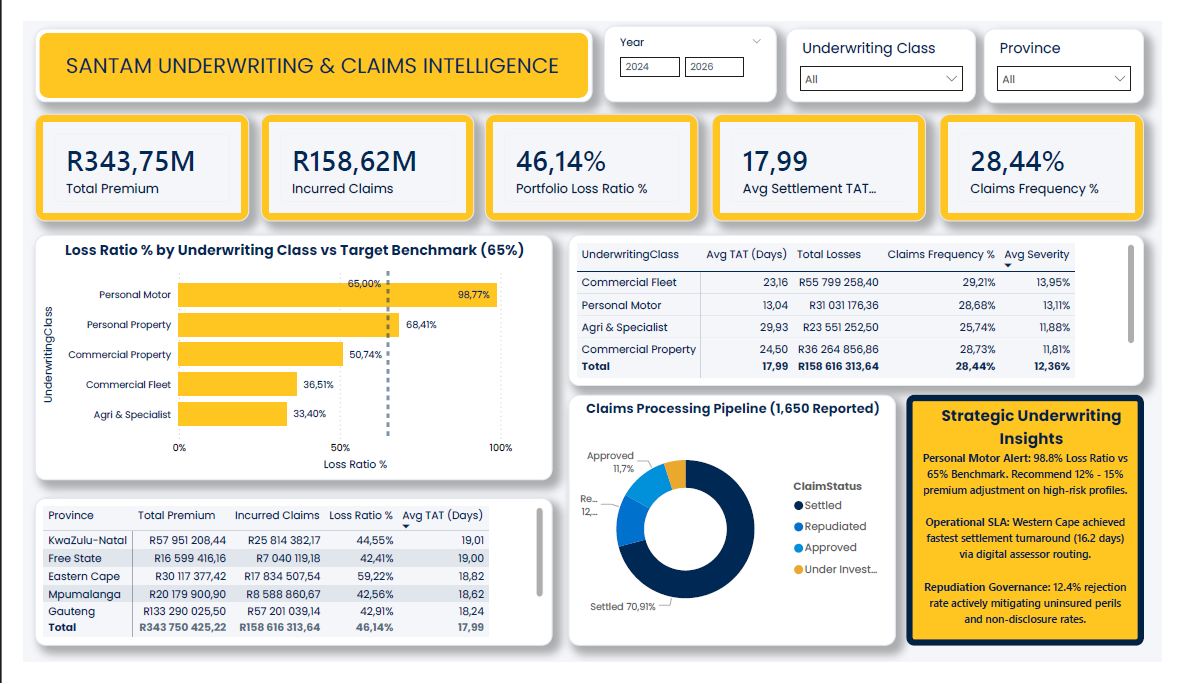

What the dashboard file says about the page in this screenshot:
{"tool":"powerbi","page":{"name":"Page 1","canvas":[1280,720],"ordinal":0},"visuals":[{"type":"shape","box":[13.4,8.4,626.6,82.3],"z":0},{"type":"slicer","fields":{"Values":["Dim_Date.Year"]},"box":[653.4,5,193.2,85.7],"z":1000},{"type":"slicer","fields":{"Values":["Dim_UnderwritingClass.UnderwritingClass"]},"box":[858,8,213,83],"z":2000},{"type":"slicer","fields":{"Values":["Dim_Region.Province"]},"box":[1080.1,8.4,179.7,84],"z":3000},{"type":"cardVisual","fields":{"Data":["_Measures.Total Premium"]},"box":[13.4,104.1,240.2,120.9],"z":4000},{"type":"cardVisual","fields":{"Data":["_Measures.Incurred Claims"]},"box":[267.1,104.1,240.2,120.9],"z":5000},{"type":"cardVisual","fields":{"Data":["_Measures.Loss Ratio %"]},"box":[519.1,104.1,240.2,120.9],"z":6000},{"type":"cardVisual","fields":{"Data":["_Measures.Avg Settlement TAT (Days)"]},"box":[774.4,104.1,240.2,120.9],"z":7000},{"type":"cardVisual","fields":{"Data":["_Measures.Claims Frequency %"]},"box":[1029.7,104.1,230.1,120.9],"z":8000},{"type":"clusteredBarChart","title":"Loss Ratio % by Underwriting Class vs Target Benchmark (65%)","fields":{"Y":["_Measures.Loss Ratio %"],"Category":["Dim_UnderwritingClass.UnderwritingClass"]},"box":[13.4,240.2,581.2,275.5],"z":9000},{"type":"pivotTable","title":"Operational Settlement Speed & Severity by Class","fields":{"Rows":["Dim_UnderwritingClass.UnderwritingClass"],"Values":["_Measures.Avg Settlement TAT (Days)","_Measures.Incurred Claims","_Measures.Claims Frequency %","_Measures.Repudiation Rate %"]},"box":[613.1,240.2,646.7,169.7],"z":10000},{"type":"pivotTable","title":"Provincial Loss Exposure & Operational Speed","fields":{"Rows":["Dim_Region.Province"],"Values":["_Measures.Total Premium","_Measures.Incurred Claims","_Measures.Loss Ratio %","_Measures.Avg Settlement TAT (Days)"]},"box":[13.4,535.9,581.2,166.3],"z":11000},{"type":"donutChart","title":"Claims Processing Pipeline (1,650 Reported)","fields":{"Category":["Fact_Claims.ClaimStatus"],"Y":["Count(Fact_Claims.ClaimID)"]},"box":[613.1,419.9,367.9,282.2],"z":12000},{"type":"textbox","title":"Strategic Underwriting Insights","box":[992.8,419.9,267.1,282.2],"z":13000},{"type":"actionButton","title":"SANTAM UNDERWRITING & CLAIMS INTELLIGENCE","box":[33.6,31.9,582.9,52.1],"z":14000}]}

Visuals, with their boxes in screenshot pixels (x1, y1, x2, y2), scaled from the page's 1280x720 canvas onto the 1182x684 screenshot:
shape: locate(12, 8, 591, 86)
slicer - Dim_Date.Year: locate(603, 5, 782, 86)
slicer - Dim_UnderwritingClass.UnderwritingClass: locate(792, 8, 989, 86)
slicer - Dim_Region.Province: locate(997, 8, 1163, 88)
cardVisual - _Measures.Total Premium: locate(12, 99, 234, 214)
cardVisual - _Measures.Incurred Claims: locate(247, 99, 468, 214)
cardVisual - _Measures.Loss Ratio %: locate(479, 99, 701, 214)
cardVisual - _Measures.Avg Settlement TAT (Days): locate(715, 99, 937, 214)
cardVisual - _Measures.Claims Frequency %: locate(951, 99, 1163, 214)
"Loss Ratio % by Underwriting Class vs Target Benchmark (65%)" clusteredBarChart: locate(12, 228, 549, 490)
"Operational Settlement Speed & Severity by Class" pivotTable: locate(566, 228, 1163, 389)
"Provincial Loss Exposure & Operational Speed" pivotTable: locate(12, 509, 549, 667)
"Claims Processing Pipeline (1,650 Reported)" donutChart: locate(566, 399, 906, 667)
"Strategic Underwriting Insights" textbox: locate(917, 399, 1163, 667)
"SANTAM UNDERWRITING & CLAIMS INTELLIGENCE" actionButton: locate(31, 30, 569, 80)
